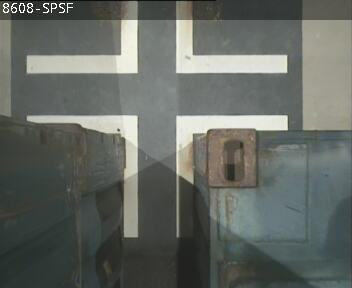groundmarker_1: (27, 116, 288, 238), (27, 1, 286, 72)
